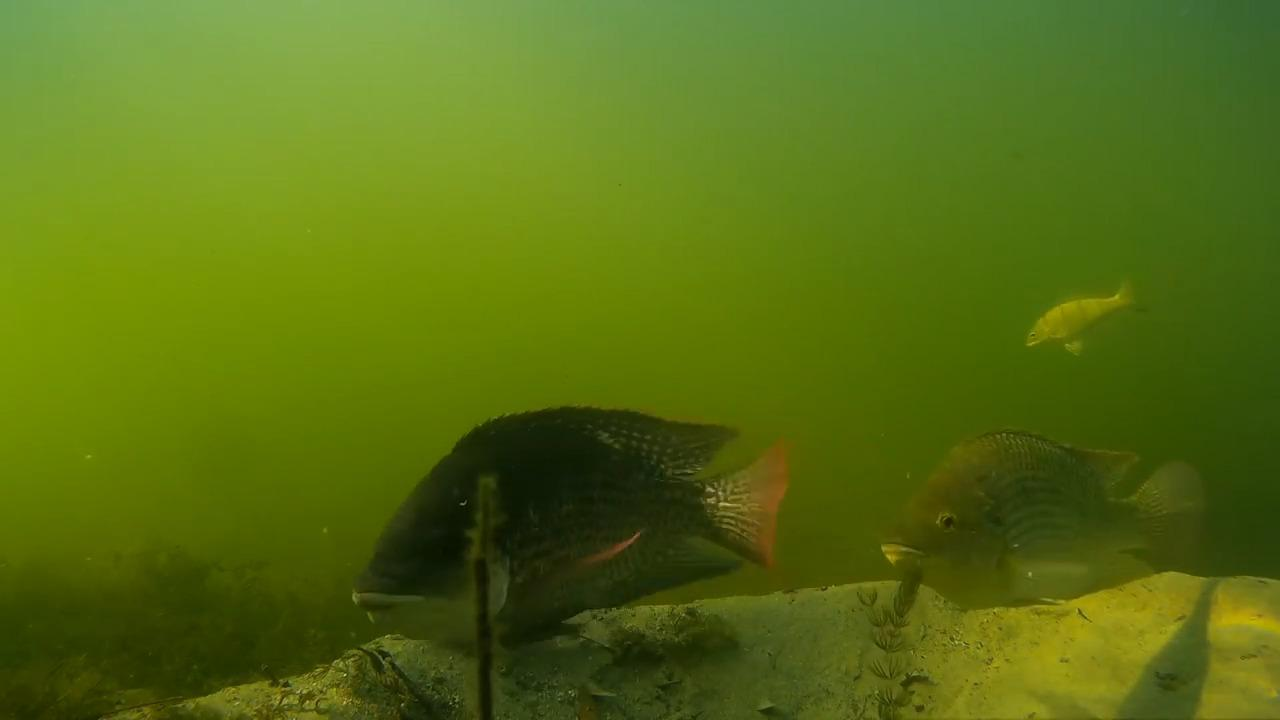Tilapia: (354, 386, 805, 662), (875, 406, 1218, 626), (1019, 260, 1150, 384)
